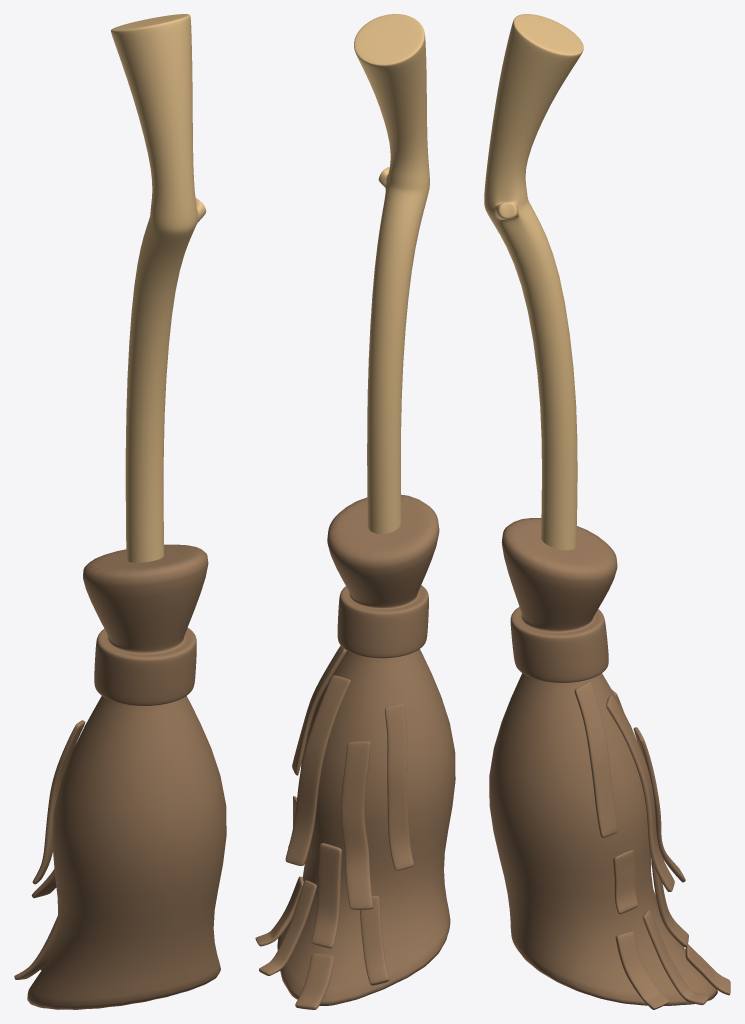
The model's file is broom.fbx.
3 renders of one model, left to right at view 1: azimuth 30°, elevation 25°; view 2: azimuth 150°, elevation 25°; view 3: azimuth 270°, elevation 25°, orthographic. The views are drawn at different scales.
Parts seen in each view (by area): view 1: Circle.003; view 2: Circle.003; view 3: Circle.003.
Part boxes in pixels (<box>): Circle.003: <box>14,14,226,1009</box>; Circle.003: <box>255,14,455,1009</box>; Circle.003: <box>484,14,730,1009</box>.
Bounding box in the file's own units: 58.73 × 327 × 75.38.
